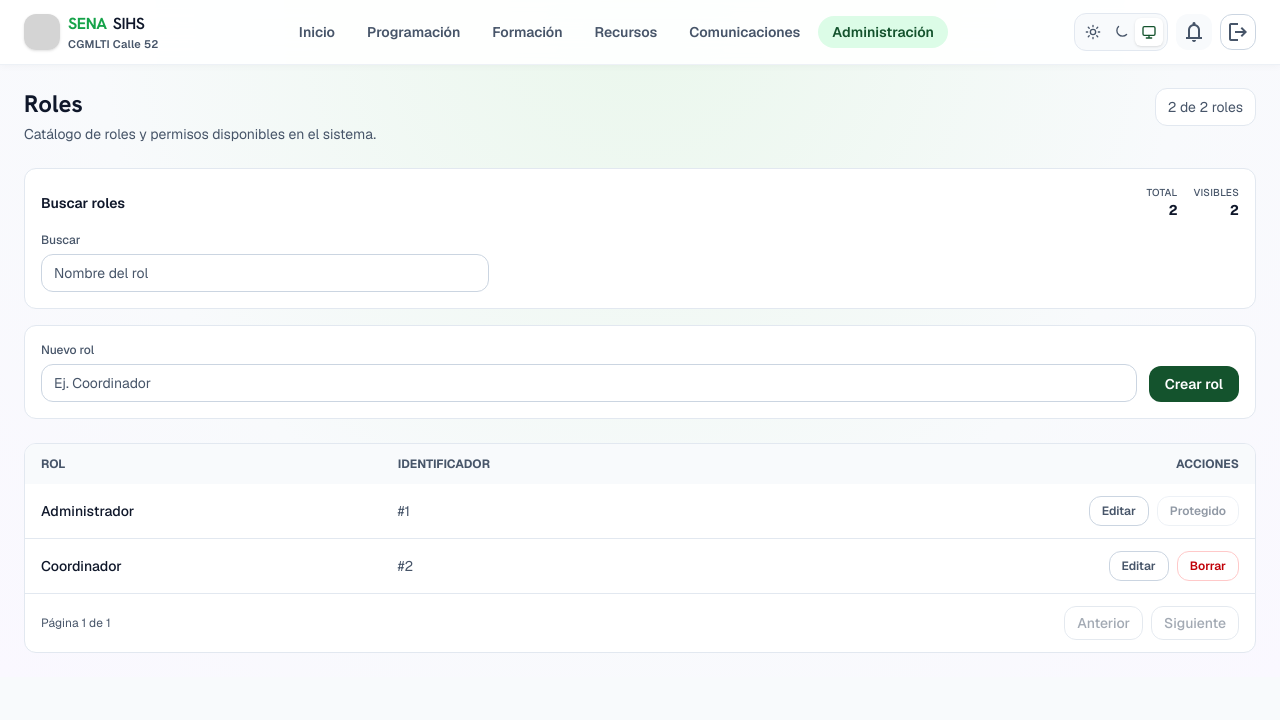
it: Roles › pide confirmación antes de borrar un rol
The width and height of the screenshot is (1280, 720).
Check: the text "Administrador" is shown, box [25,484,382,538]
Click the button "Borrar". click: [1208, 566]
box: [1177,551,1239,581]
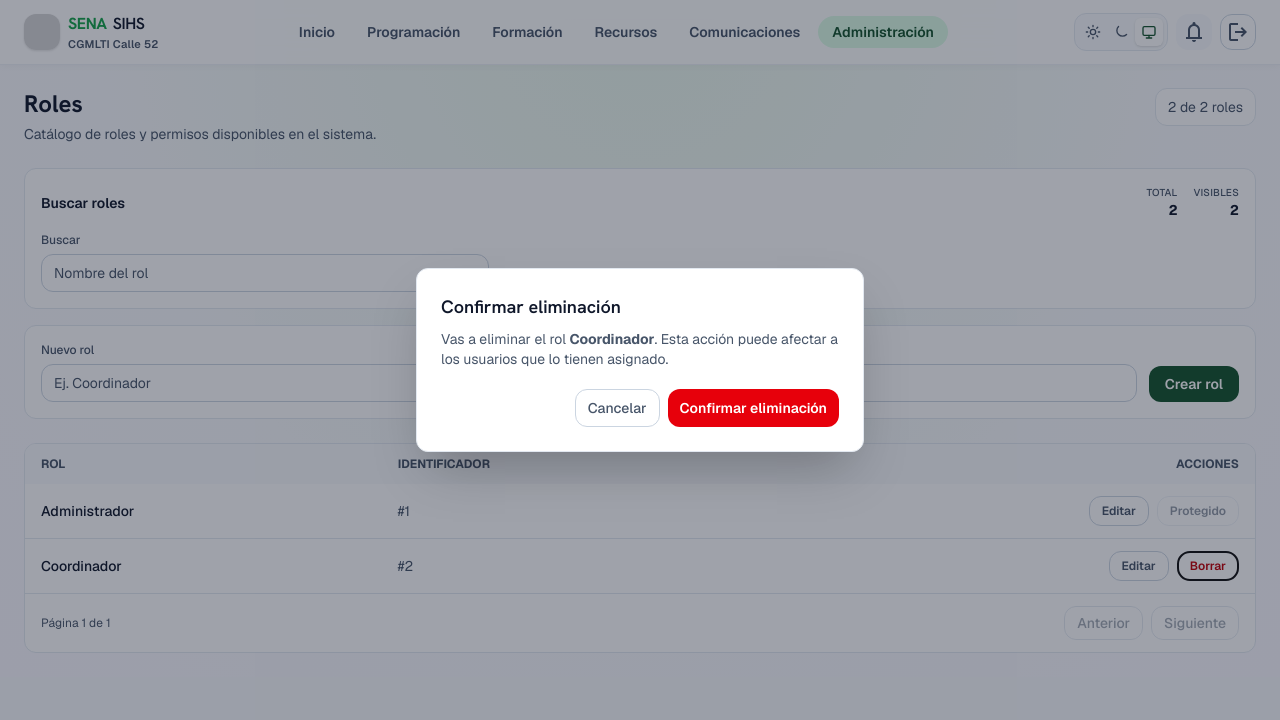
Check: the dialog "Confirmar eliminación" is shown
Check: the text "Vas a eliminar el rol" is shown, box [441,330,569,348]
